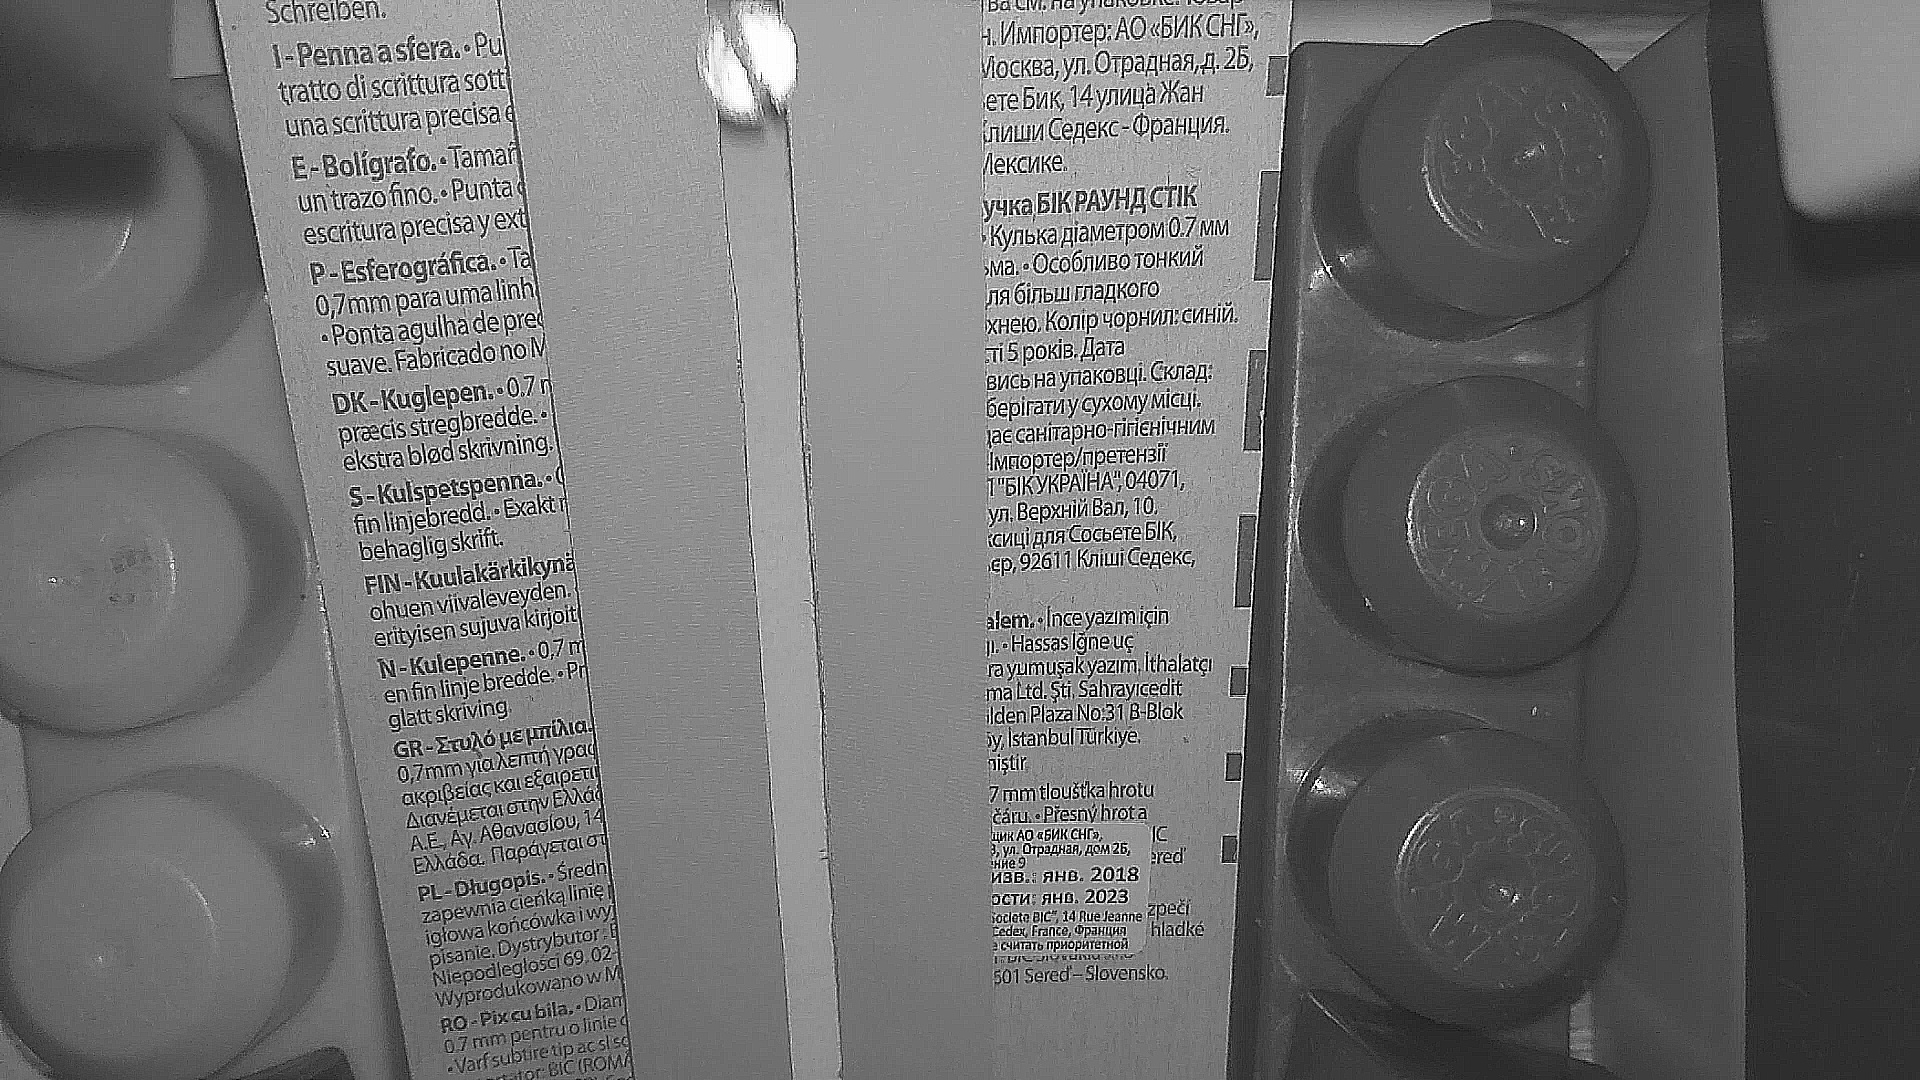i: (696, 15, 796, 116)
